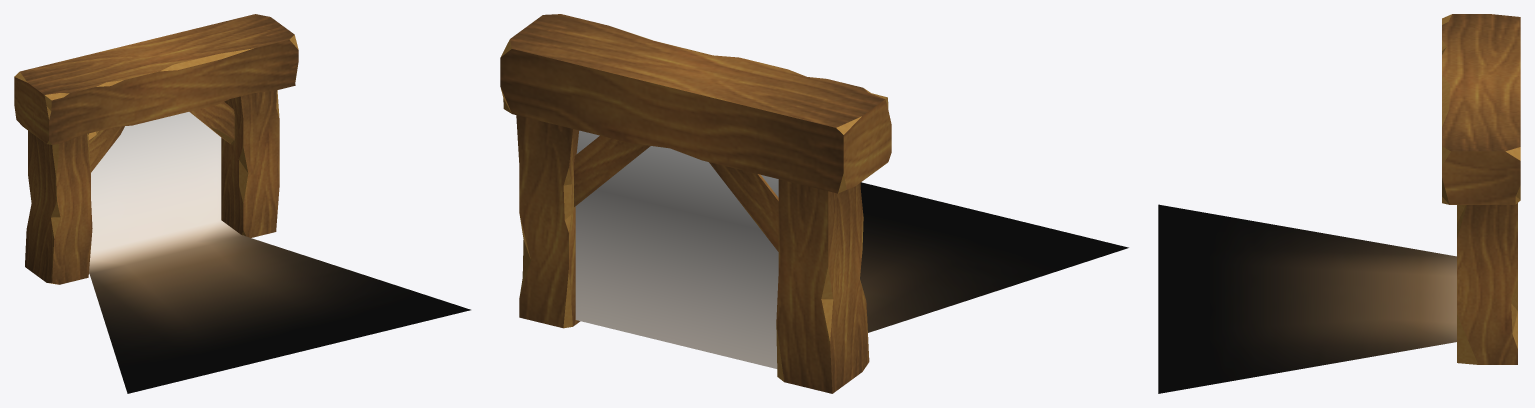
Rendered from DungeonExit.fbx.
3 renders of one model, left to right at view 1: azimuth 30°, elevation 25°; view 2: azimuth 150°, elevation 25°; view 3: azimuth 270°, elevation 25°, orthographic. The views are drawn at different scales.
Visible parts, largest first — view 1: add, wood2; view 2: wood2, add; view 3: add, wood2.
Boxes of the visible parts, x1,y1,x2,y2 form: add: (89,112,470,393); wood2: (14,14,298,284); wood2: (500,14,891,393); add: (575,130,1128,368); add: (1158,204,1456,393); wood2: (1442,14,1520,364).
Size of the model in its own units: 3.65 by 1.98 by 2.95.
